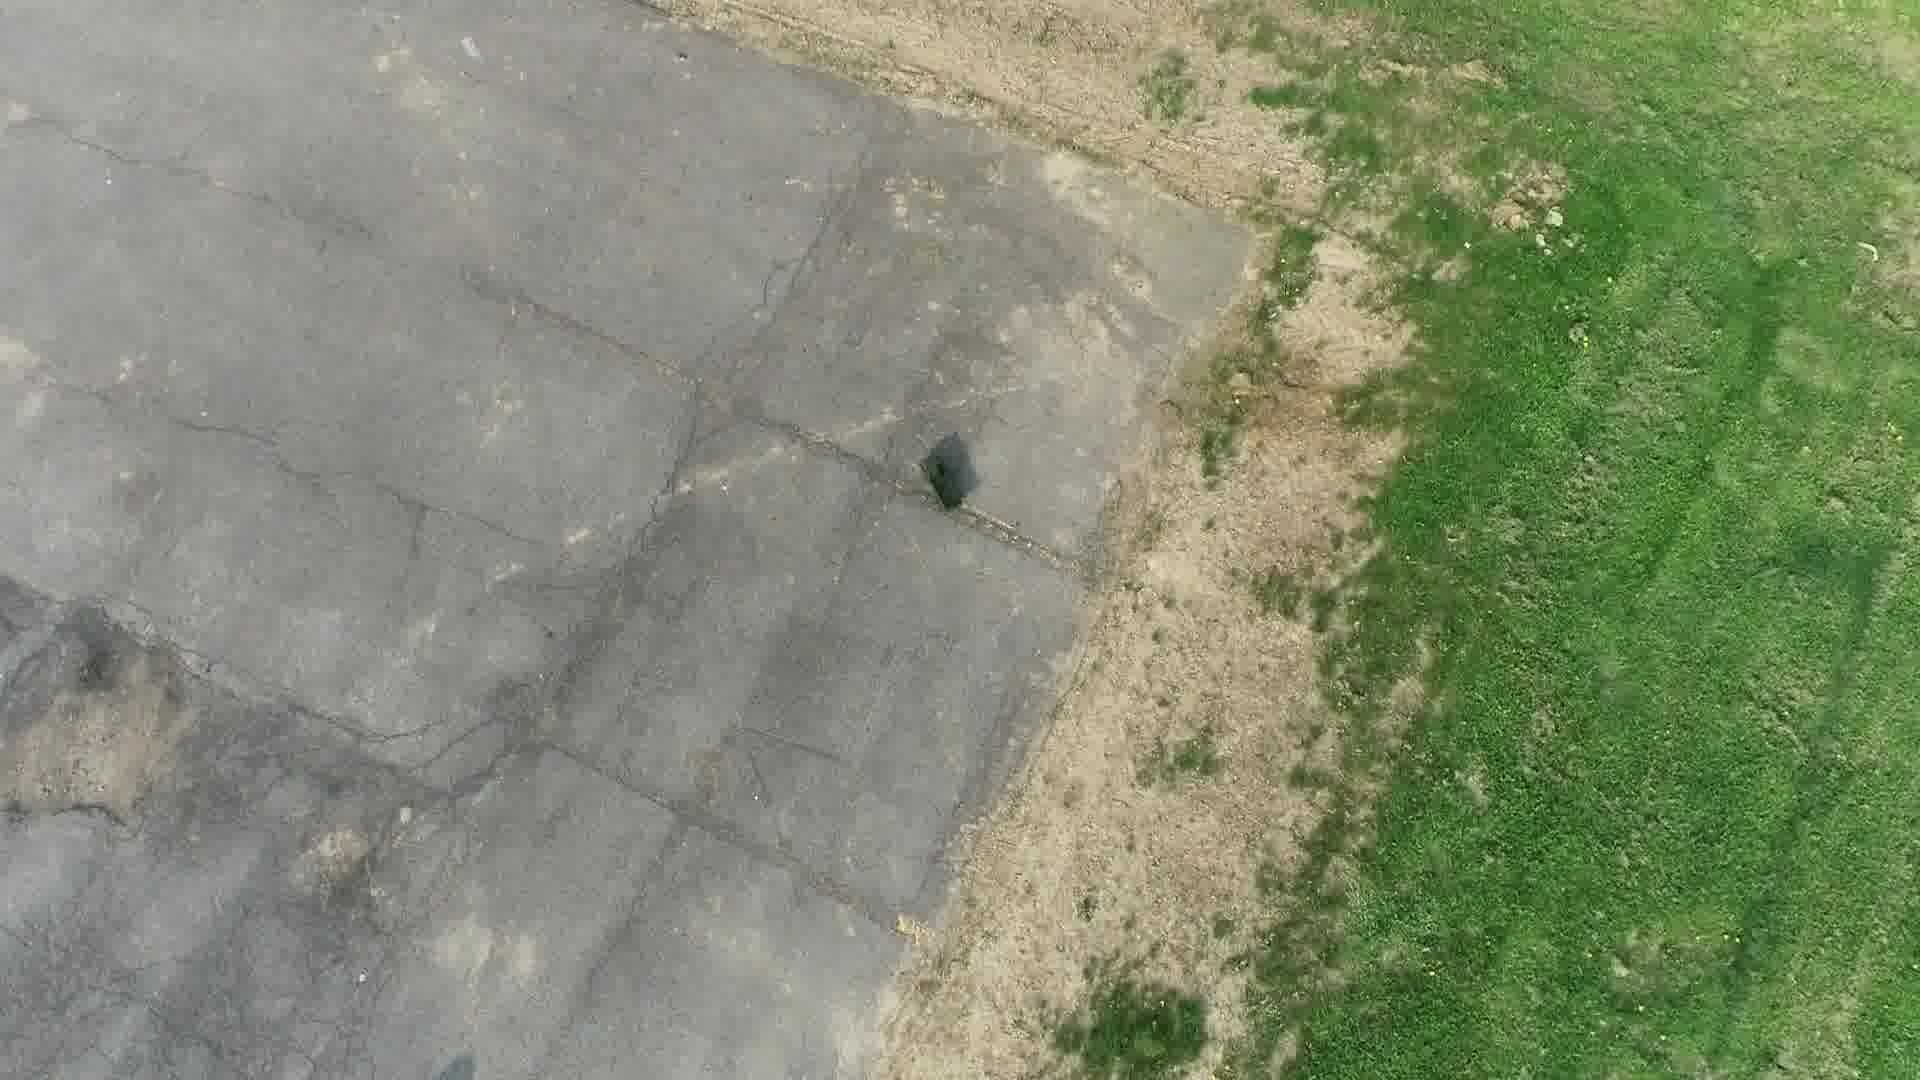transporter9: (919, 455, 967, 512)
